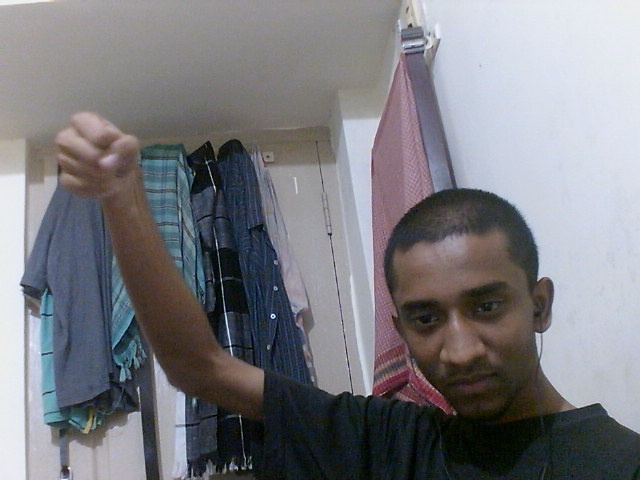hand: (51, 109, 148, 204)
